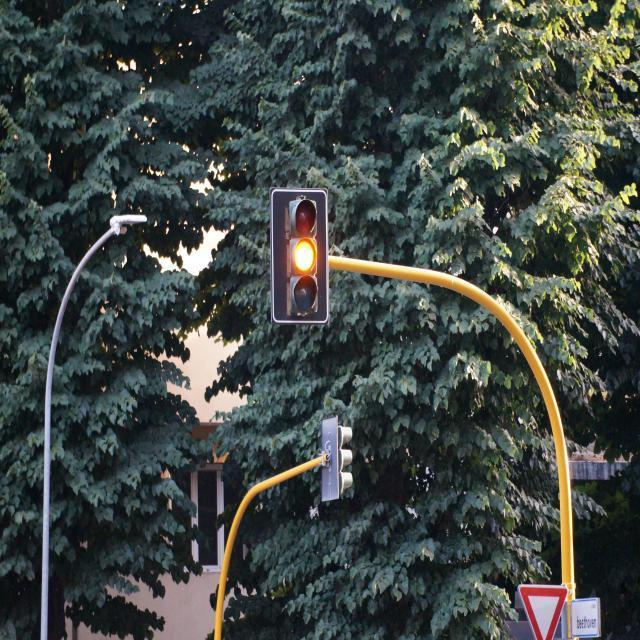yellow_light: (270, 188, 328, 323)
